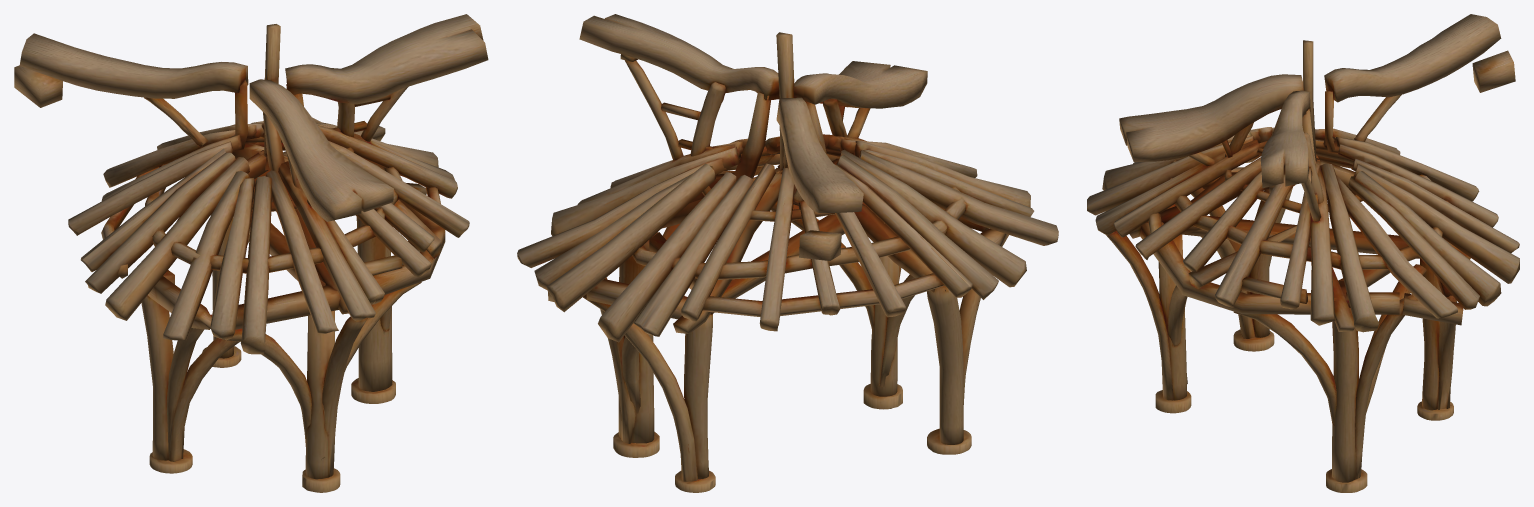
The model's file is 0221c963-8aac-4394-9329-0a80a05f846e.glb.
The picture shows the model from 3 angles, left to right: view 1: azimuth 30°, elevation 25°; view 2: azimuth 150°, elevation 25°; view 3: azimuth 270°, elevation 25°; orthographic projection. The views are drawn at different scales.
Visible parts, largest first — view 1: tripo_node_0221c963-8aac-4394-9329-0a80a05f846e; view 2: tripo_node_0221c963-8aac-4394-9329-0a80a05f846e; view 3: tripo_node_0221c963-8aac-4394-9329-0a80a05f846e.
Boxes of the visible parts, bbox=[...] form: tripo_node_0221c963-8aac-4394-9329-0a80a05f846e: bbox=[14, 14, 488, 492]; tripo_node_0221c963-8aac-4394-9329-0a80a05f846e: bbox=[517, 14, 1058, 492]; tripo_node_0221c963-8aac-4394-9329-0a80a05f846e: bbox=[1087, 14, 1519, 492].
Size of the model in its own units: 0.9902 by 0.9824 by 0.998.
Materials: 1 (1 with a texture image).
